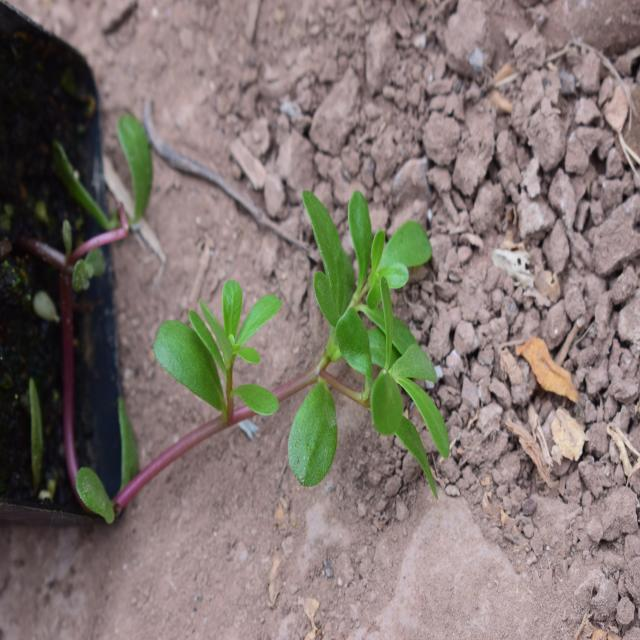purslane: (148, 178, 464, 508)
